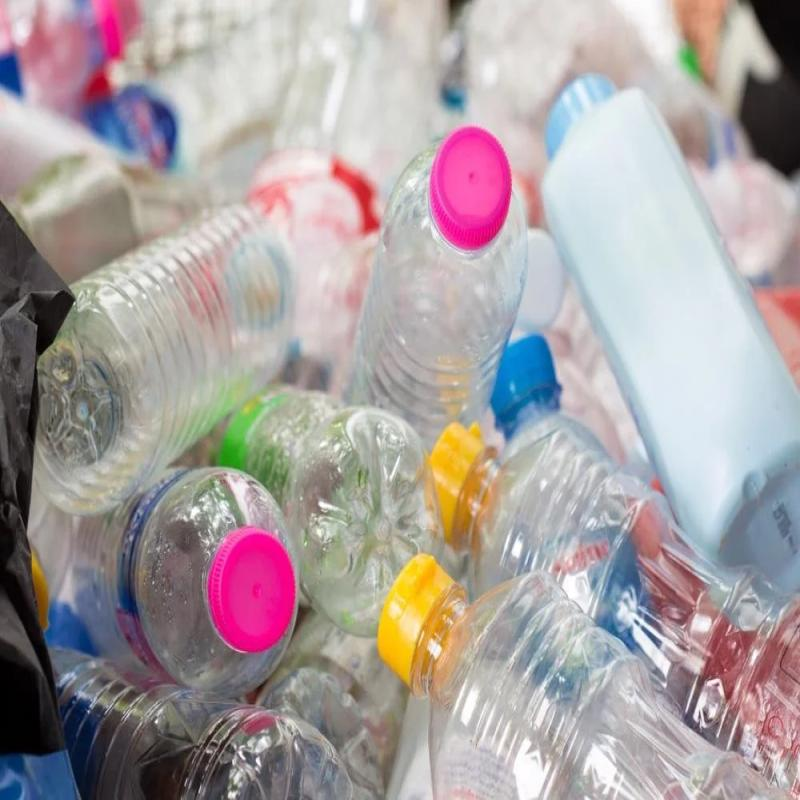botella: (419, 415, 800, 761), (384, 562, 795, 800), (10, 200, 297, 501), (484, 332, 657, 720), (189, 370, 438, 621), (44, 449, 301, 688), (32, 631, 366, 800), (346, 123, 521, 432)
